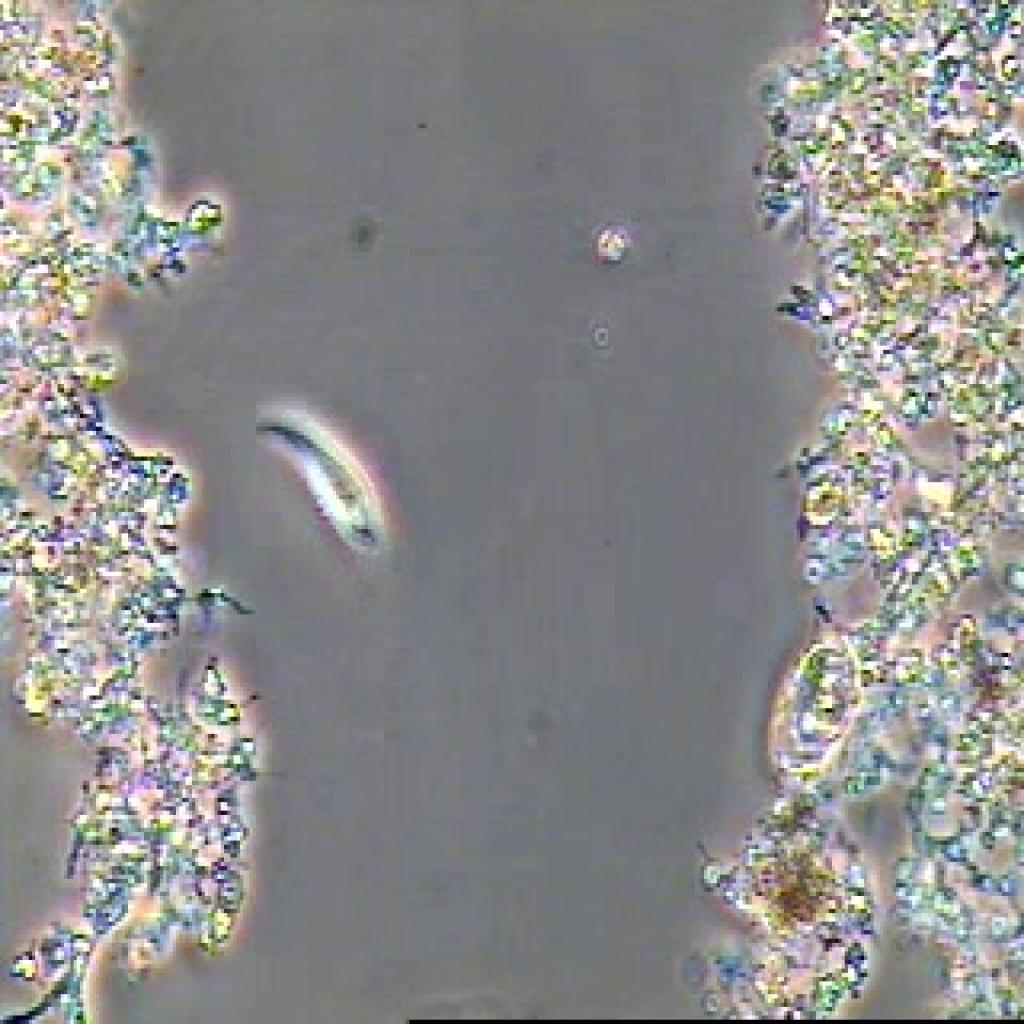Pristina: (246, 380, 397, 584)
